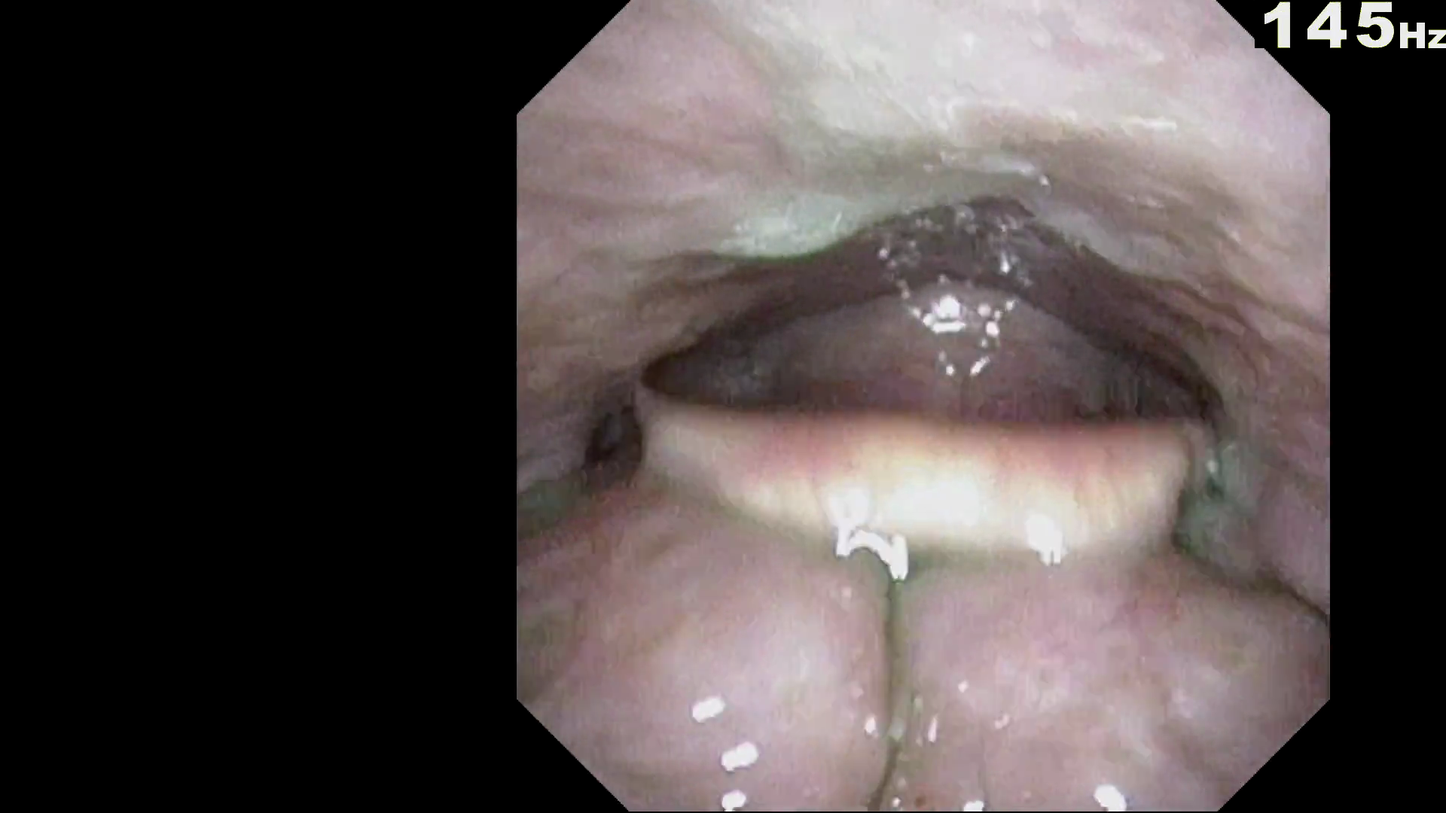epiglottis: (682, 433, 1184, 545)
